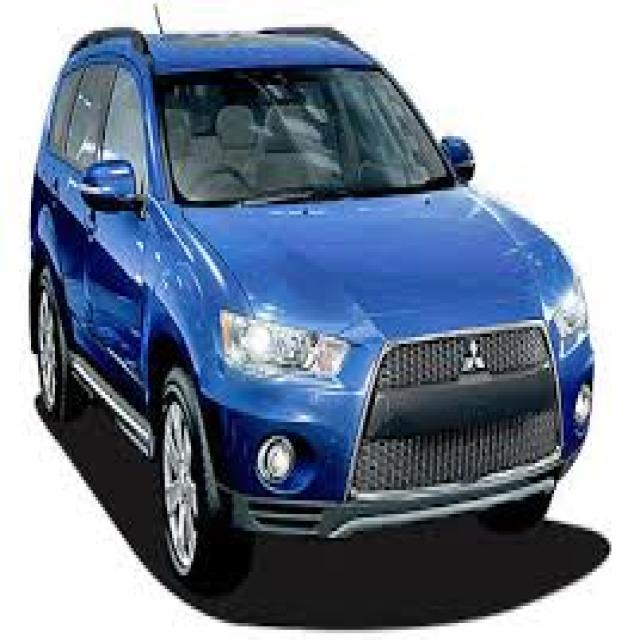light_vehicle: (28, 26, 594, 587)
